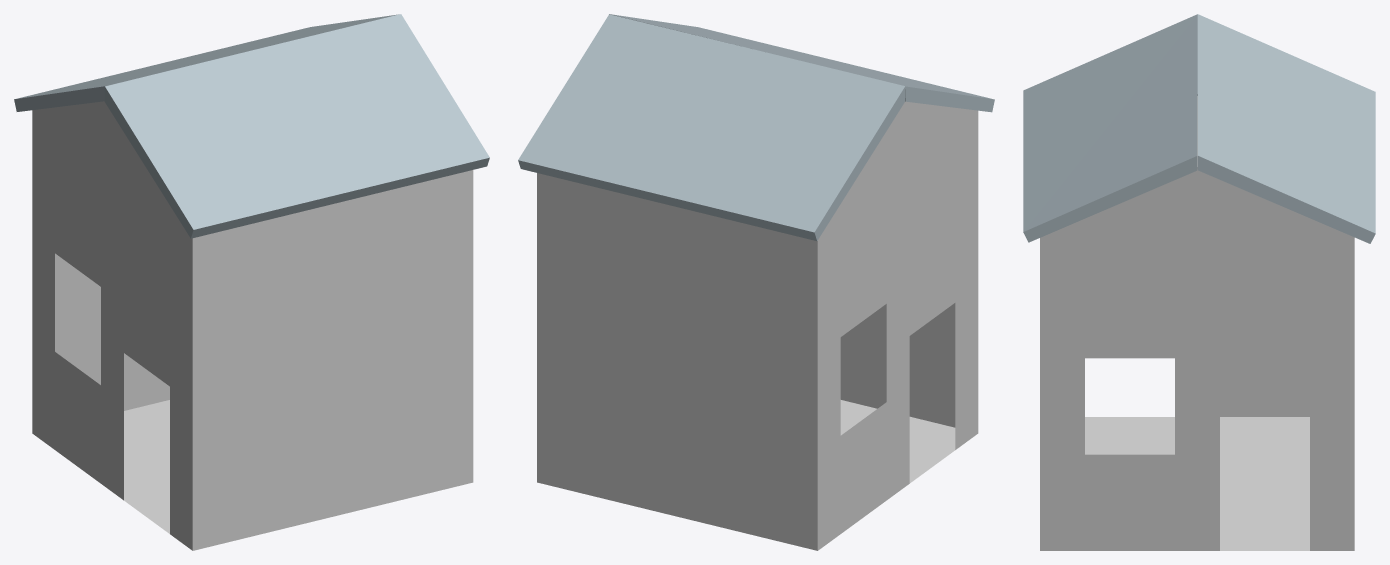
File: cbhouse2.glb
The picture shows the model from 3 angles, left to right: view 1: azimuth 30°, elevation 25°; view 2: azimuth 150°, elevation 25°; view 3: azimuth 270°, elevation 25°; orthographic projection. The views are drawn at different scales.
Visible parts, largest first — view 1: mesh1784188291; view 2: mesh1784188291; view 3: mesh1784188291.
Boxes of the visible parts, x1,y1,x2,y2 form: mesh1784188291: (14,14,489,550); mesh1784188291: (518,14,994,550); mesh1784188291: (1023,14,1375,550).
Size of the model in its own units: 2.14 by 2.81 by 2.25.
